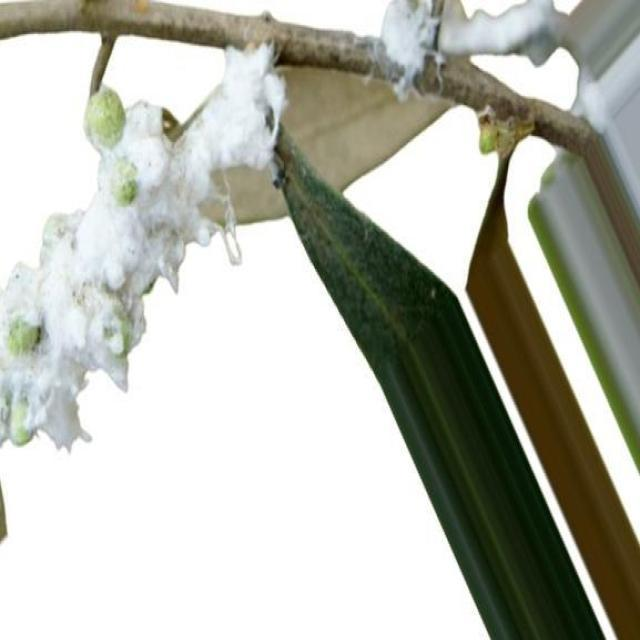Psyllid: (0, 42, 286, 446), (376, 0, 566, 98)
